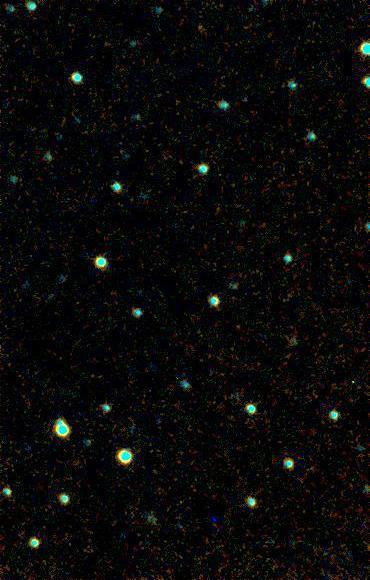star: (185, 15, 215, 45)
